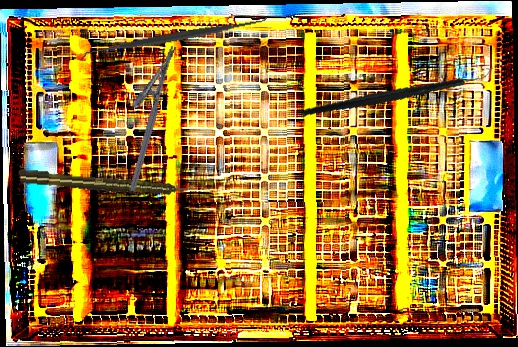Chopper: (302, 34, 494, 146)
Handpiece: (18, 167, 194, 200)
Needle Holder: (108, 40, 178, 192)
Spatula Surgical: (78, 10, 270, 65)
